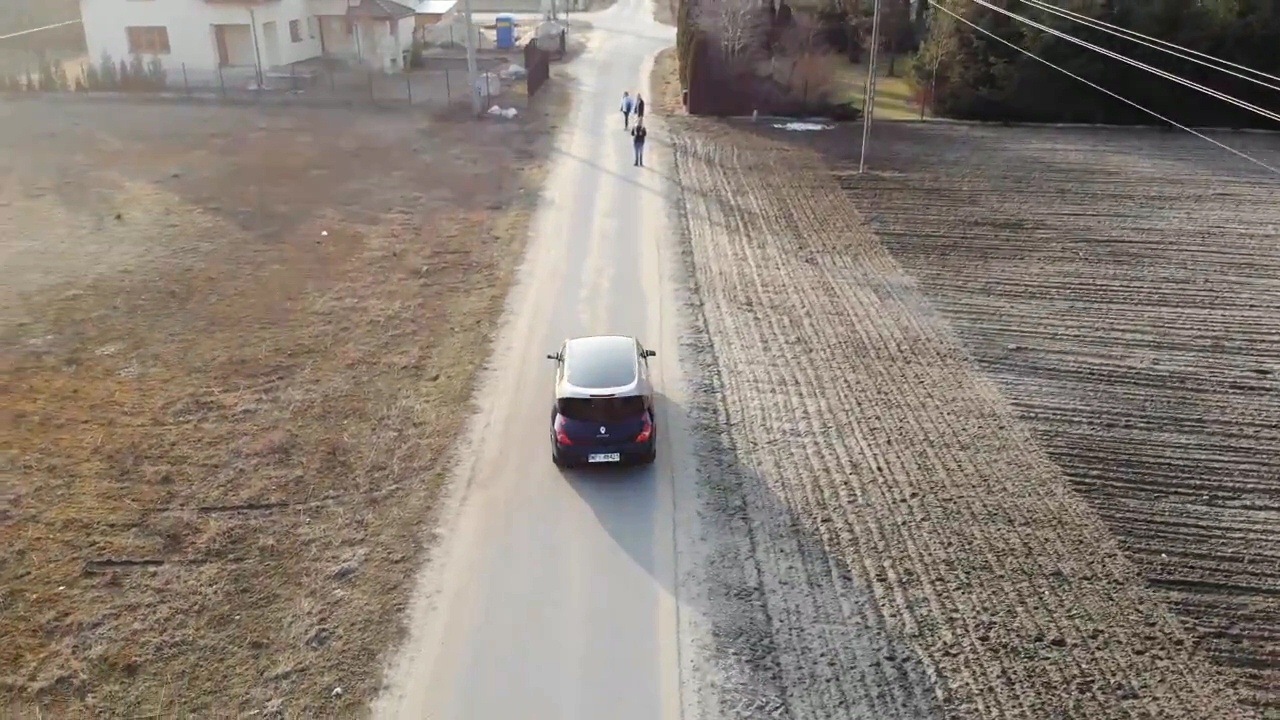araba: (549, 335, 659, 468)
insan: (632, 117, 646, 166), (620, 91, 632, 131), (633, 92, 645, 129)
